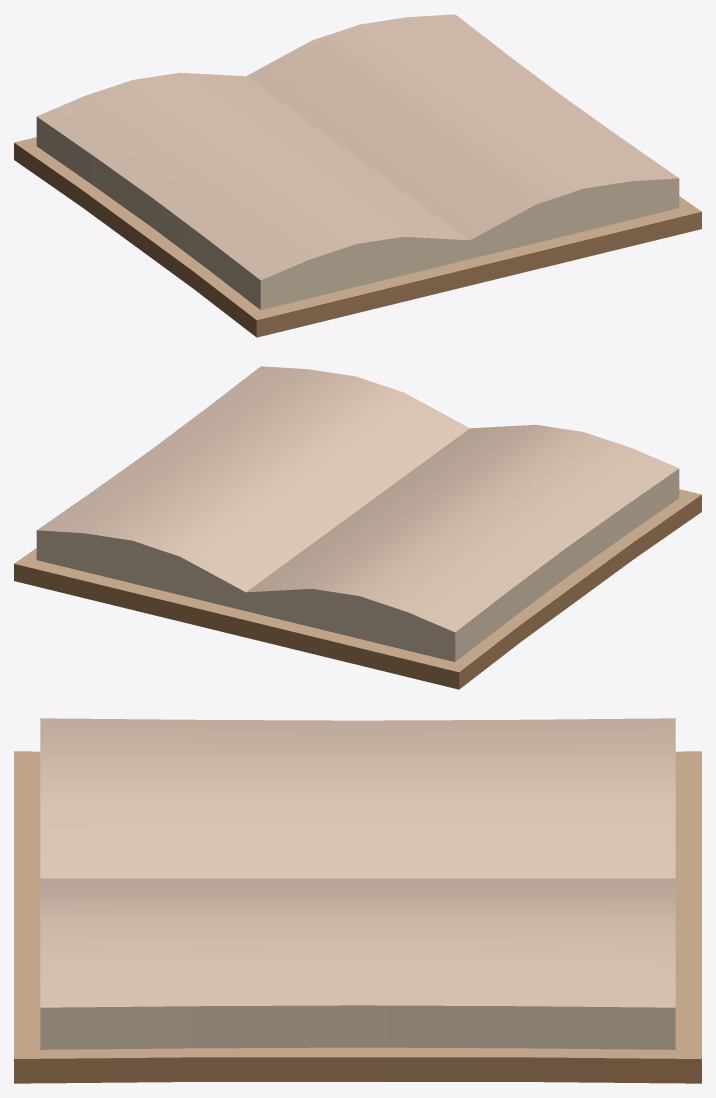
Rendered from book_opened.fbx.
3 views of the same model, one above another, from view 1: azimuth 30°, elevation 25°; view 2: azimuth 150°, elevation 25°; view 3: azimuth 270°, elevation 25° (orthographic). The views are drawn at different scales.
Parts seen in each view (by area): view 1: book_opened; view 2: book_opened; view 3: book_opened.
Part boxes in pixels (box(x1,y1,x2,y2)): book_opened: box(14, 14, 701, 337); book_opened: box(14, 366, 701, 689); book_opened: box(14, 718, 701, 1083).
Size of the model in its own units: 32.98 by 4.26 by 31.16.
